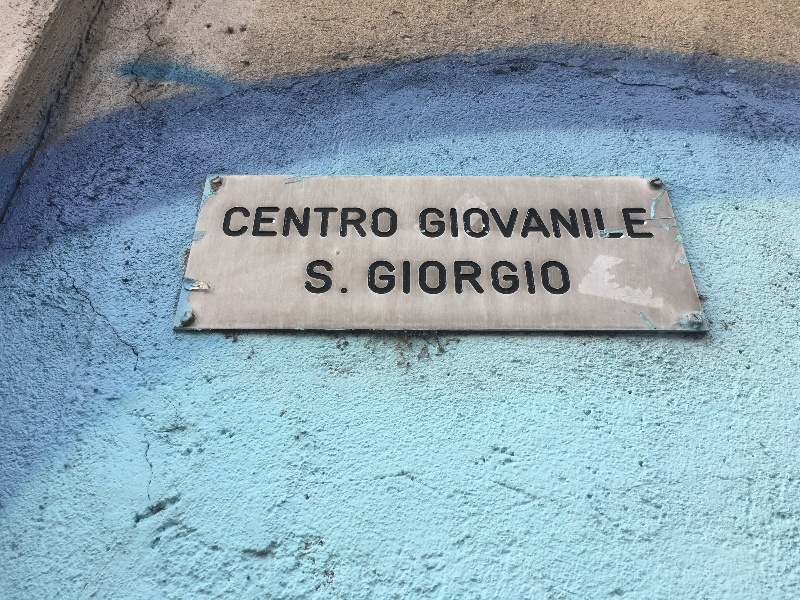text: (561, 258, 577, 298), (321, 257, 336, 298), (369, 258, 384, 298), (385, 258, 400, 298), (401, 258, 416, 298), (417, 258, 432, 298), (433, 258, 448, 298), (449, 258, 464, 298), (465, 258, 480, 298), (481, 258, 496, 298), (497, 258, 512, 298), (513, 258, 528, 298), (529, 258, 544, 298), (545, 258, 560, 298), (433, 204, 448, 242), (449, 204, 464, 242), (465, 204, 480, 242), (481, 204, 496, 242), (497, 204, 512, 242), (513, 204, 528, 242), (529, 204, 544, 242), (545, 204, 560, 242), (561, 204, 576, 242), (577, 204, 592, 242), (593, 204, 608, 242), (609, 204, 624, 242), (625, 204, 640, 242), (641, 204, 656, 242), (307, 257, 320, 298), (337, 257, 350, 298), (418, 204, 432, 242), (241, 205, 256, 239), (257, 205, 272, 239), (273, 205, 288, 239), (289, 205, 304, 239), (305, 205, 320, 239), (321, 205, 336, 239), (337, 205, 352, 239), (353, 205, 368, 239), (369, 205, 384, 239), (385, 205, 400, 239), (226, 205, 240, 239), (657, 204, 658, 242)
